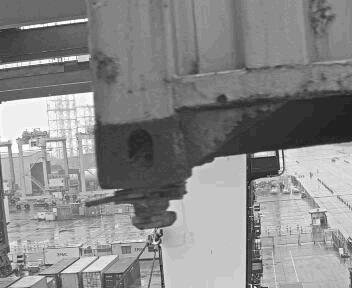twist_lock_1: (127, 147, 161, 170)
